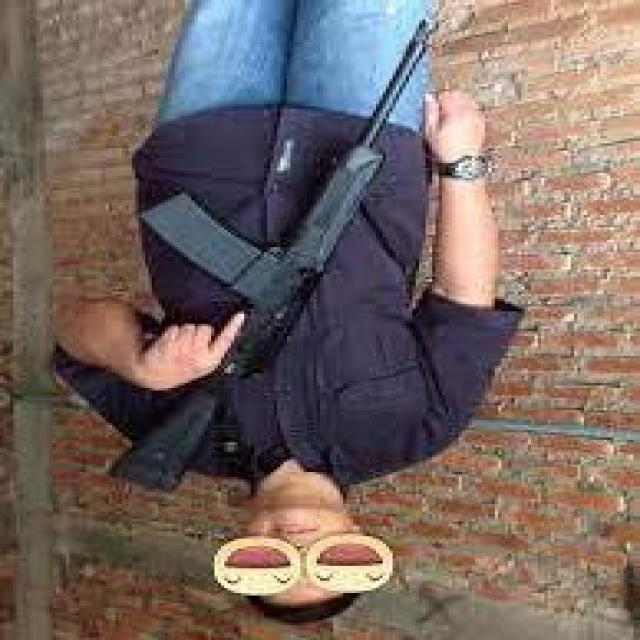weapon: (104, 17, 442, 494)
